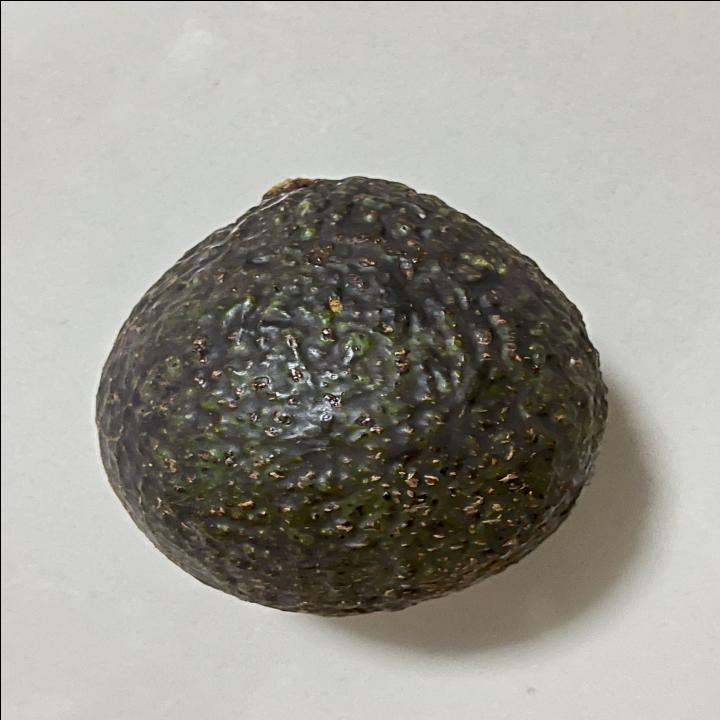Level1: (78, 162, 618, 625)
